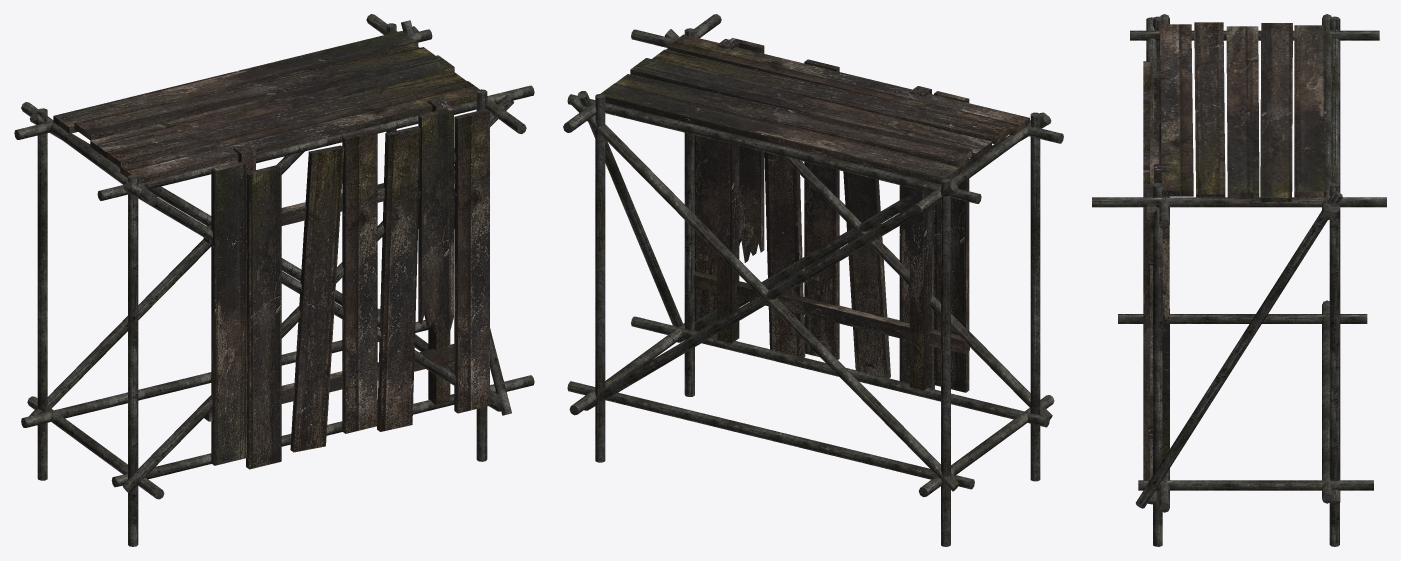
Rendered from Scaffolding_3.fbx.
3 views of the same model, side by side, from view 1: azimuth 30°, elevation 25°; view 2: azimuth 150°, elevation 25°; view 3: azimuth 270°, elevation 25° (orthographic). The views are drawn at different scales.
Visible parts, largest first — view 1: Scaffolding_3; view 2: Scaffolding_3; view 3: Scaffolding_3.
Boxes of the visible parts, x1,y1,x2,y2 form: Scaffolding_3: [14, 14, 534, 546]; Scaffolding_3: [563, 14, 1063, 546]; Scaffolding_3: [1092, 14, 1386, 546].
Bounding box in the file's own units: 307 × 251 × 186.
